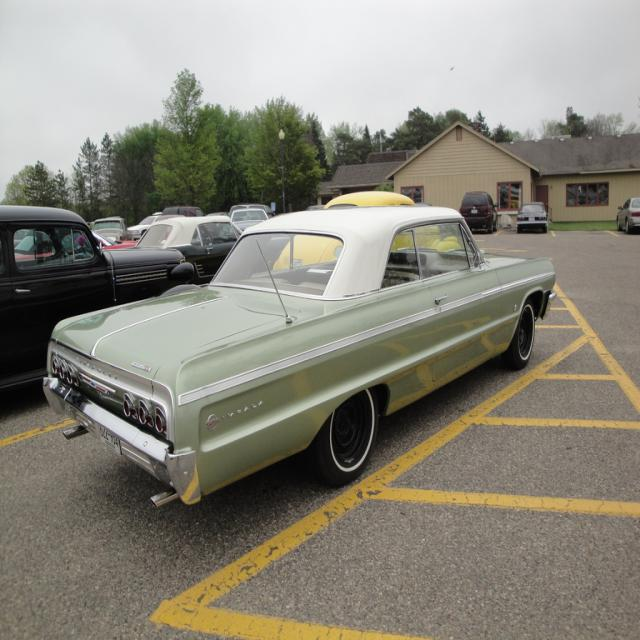car: (43, 203, 550, 507), (515, 205, 550, 231)
